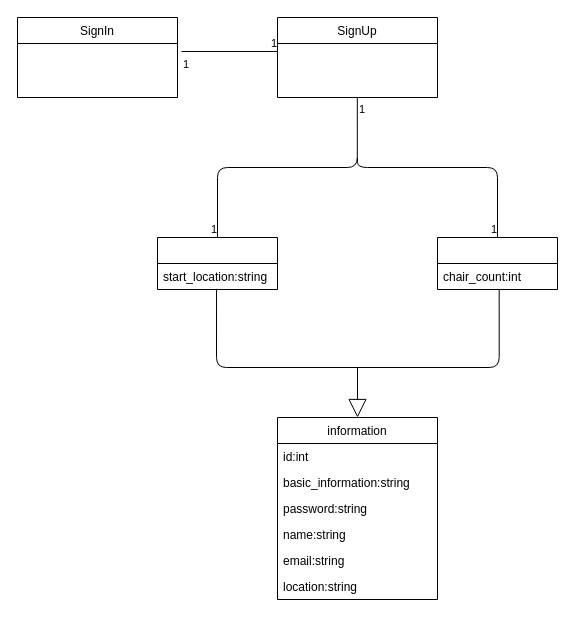
The diagram is 575 pixels wide and 620 high, and some of its shapes have lost their labels. Each missing label, with the box of its shape:
Customer: (156, 236, 278, 290)
Driver: (436, 236, 558, 290)
